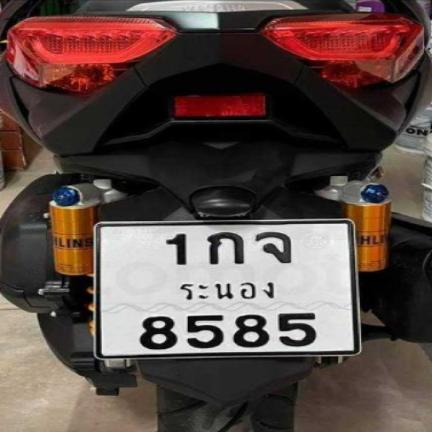1: (158, 231, 194, 265)
5: (183, 313, 229, 349), (277, 311, 319, 347)
8: (129, 313, 178, 350), (232, 312, 274, 349)
A01: (200, 231, 247, 266)
A08: (252, 231, 299, 265)
RNG: (176, 280, 280, 302)
